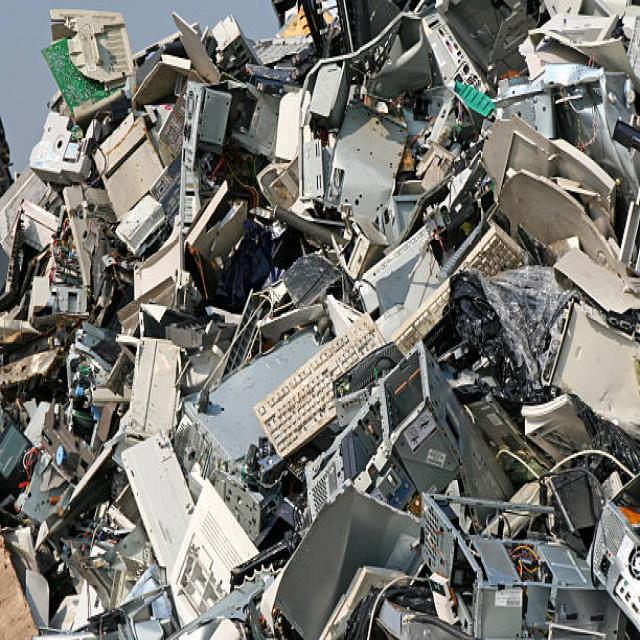metal: (6, 3, 628, 632)
